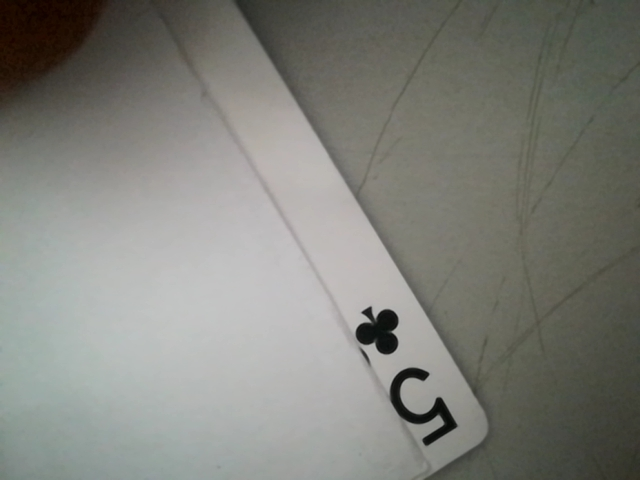mh 5: (343, 296, 476, 460)
